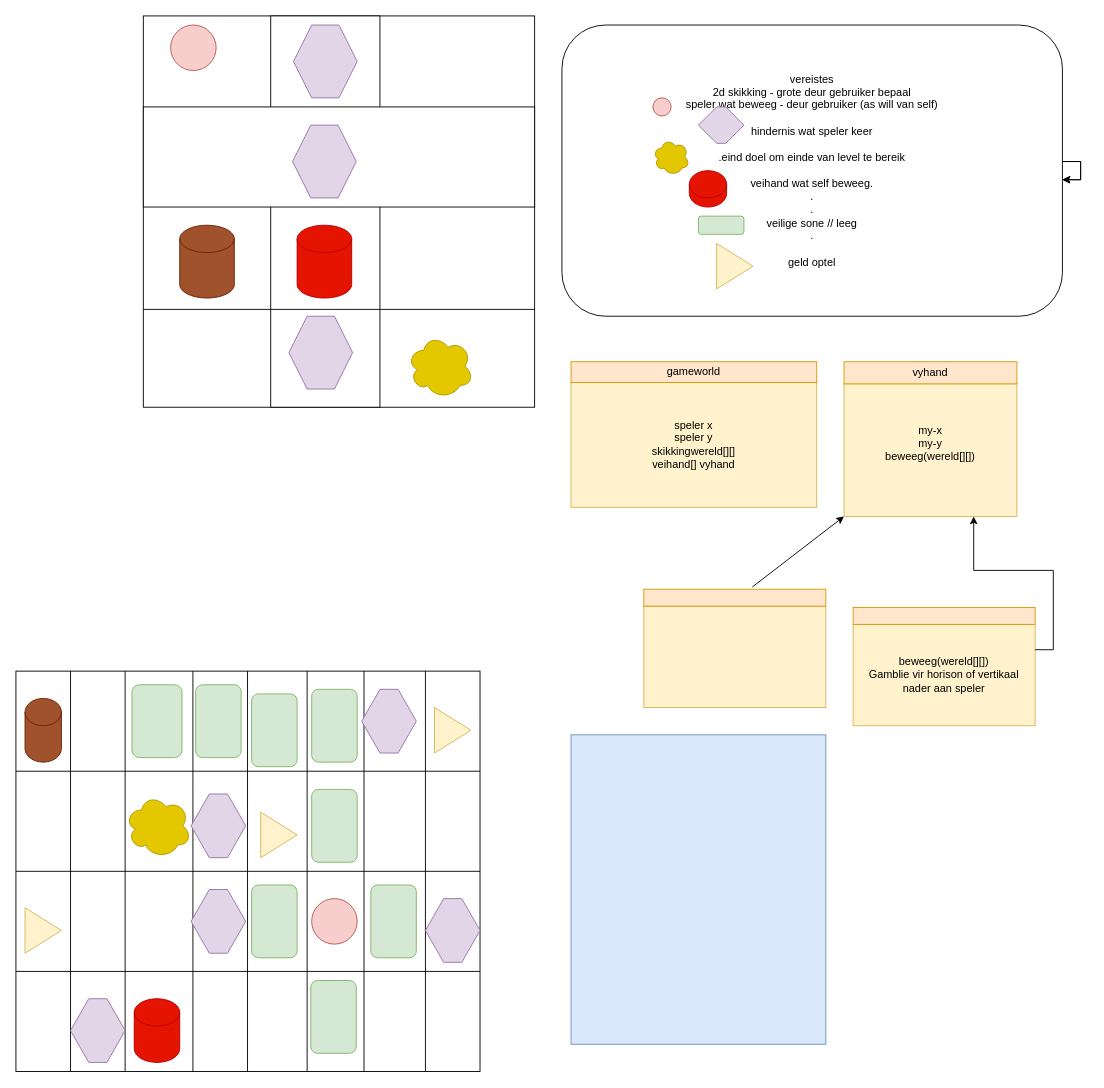
This 1104x1088 diagram has some shape labels left out. The shapes that lost their labels are listed below. From the top down, each one's centre as x and y in pixels, then its label:
point 734,597: creeper
point 943,615: slime
point 734,656: beweeg(wereld[][]) op links middle af
